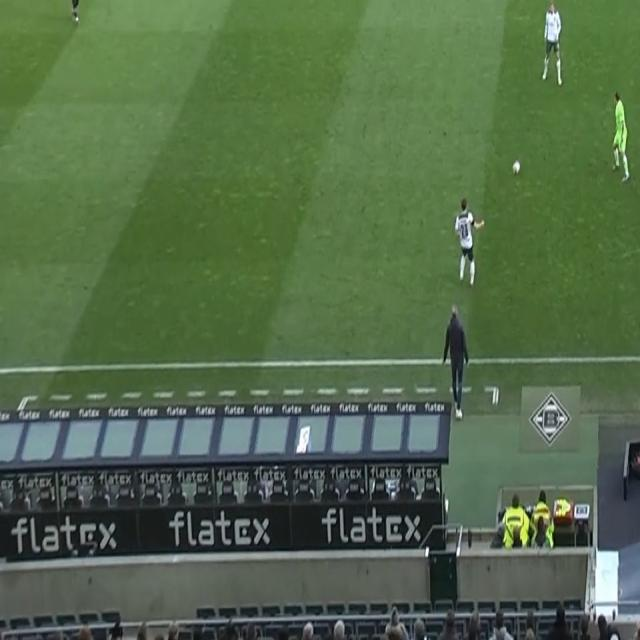ball: (512, 158, 521, 176)
